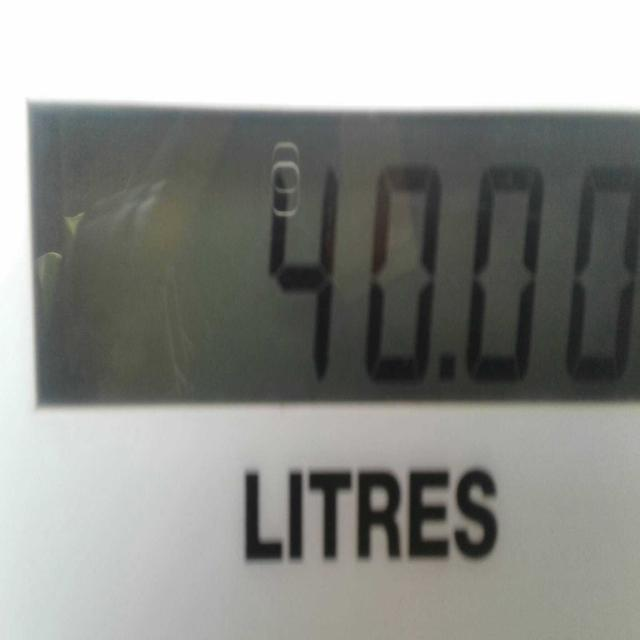.: (434, 343, 460, 394)
0: (552, 156, 640, 400), (462, 142, 546, 392), (347, 148, 435, 378)
4: (250, 155, 347, 386)
